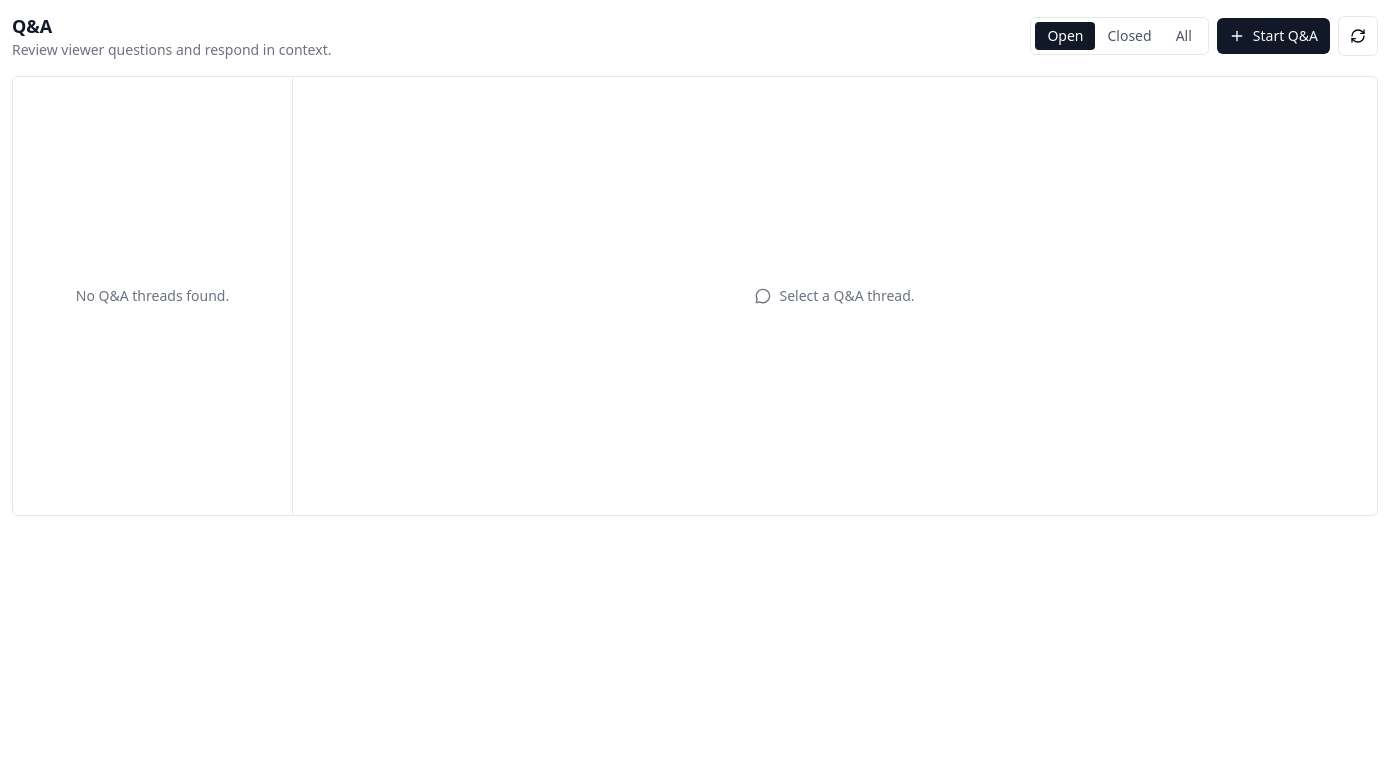
Test case: OwnerQnAManager › selects the first available share link by default
Expected: the text "No Q&A threads found." is shown, [76,286,229,305]
Click the button "Start Q&A" at (1273, 36), box [1217,18,1330,54]
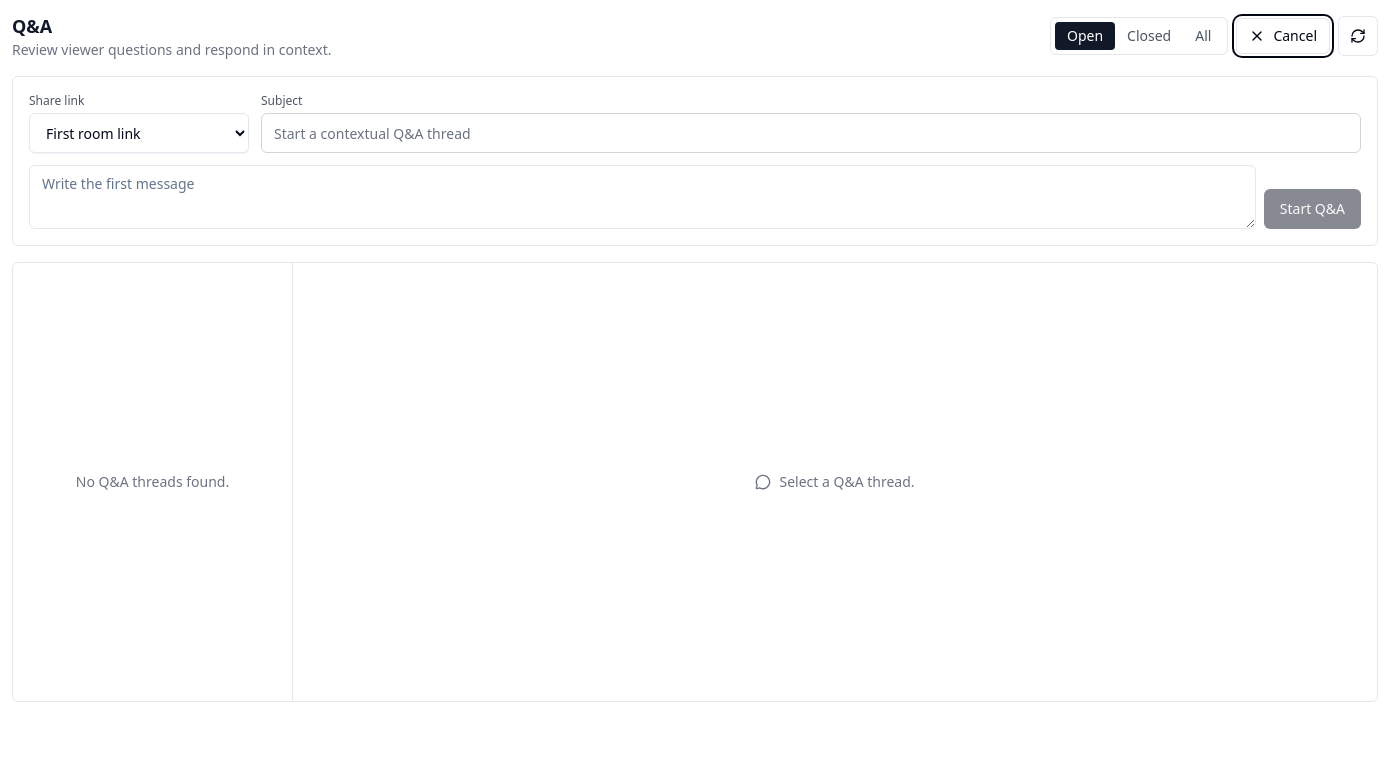
Expected: the dropdown named "Owner Q&A share link" shows "First room link", [29,113,249,153]
